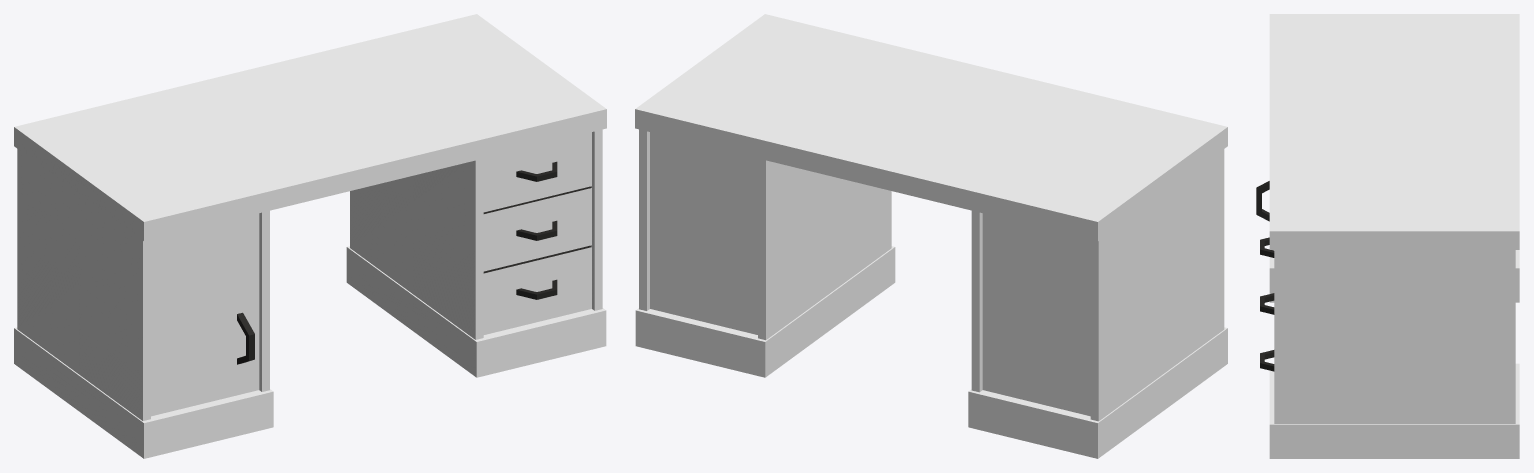
File: Desk_1A.fbx
3 renders of one model, left to right at view 1: azimuth 30°, elevation 25°; view 2: azimuth 150°, elevation 25°; view 3: azimuth 270°, elevation 25°, orthographic. The views are drawn at different scales.
Visible parts, largest first — view 1: polySurface1504; view 2: polySurface1504; view 3: polySurface1504.
Part boxes in pixels (x1,y1,x2,y2): polySurface1504: (14,14,606,458); polySurface1504: (635,14,1227,458); polySurface1504: (1256,14,1519,458).
Size of the model in its own units: 2.05 by 1 by 1.05.
1 material, 1 textured.
